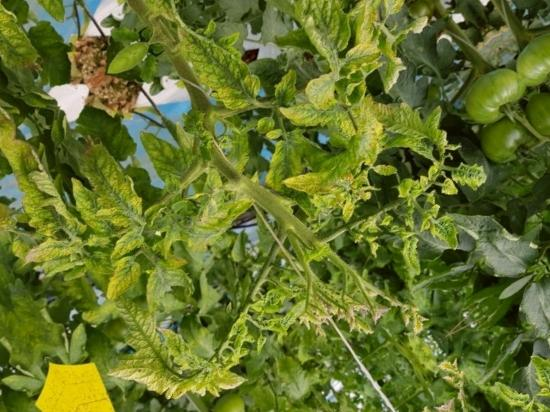Tomato leaf yellow virus: (164, 4, 278, 131), (51, 120, 161, 244), (0, 131, 90, 255), (351, 73, 455, 180), (275, 0, 364, 69), (129, 113, 203, 192), (12, 217, 91, 286), (272, 145, 343, 217), (273, 80, 346, 150), (84, 249, 152, 309), (319, 0, 446, 25), (296, 63, 350, 116), (341, 29, 388, 76)
